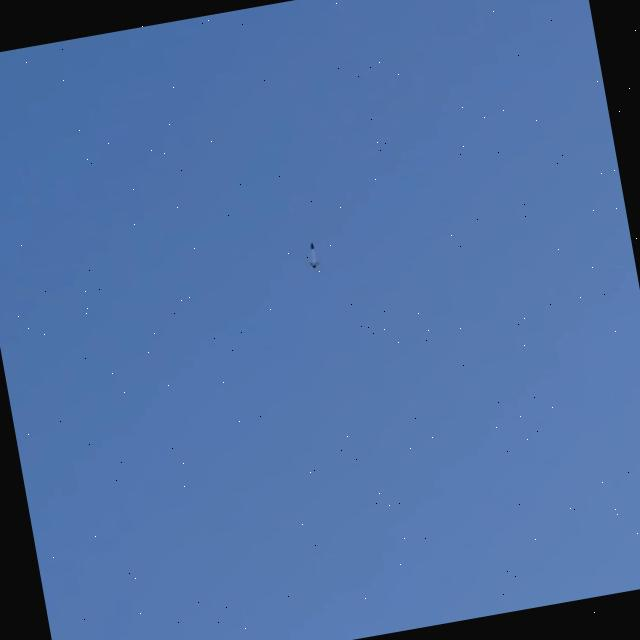rocket: (308, 241, 320, 270)
